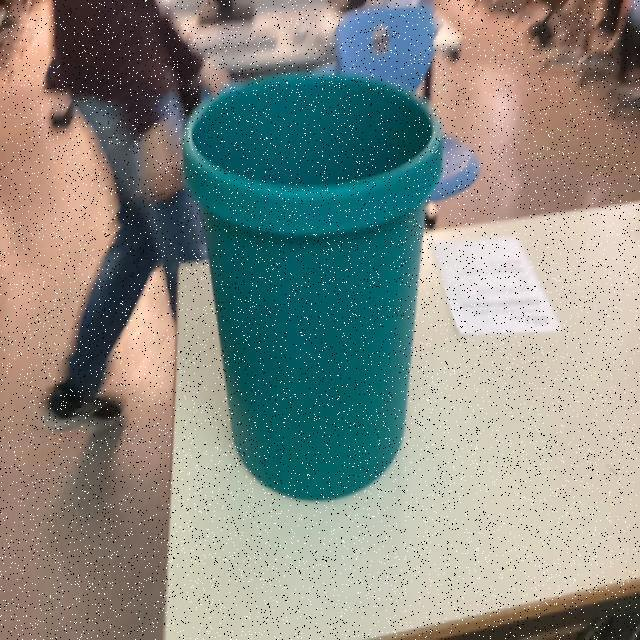garbage container: (142, 18, 497, 547)
